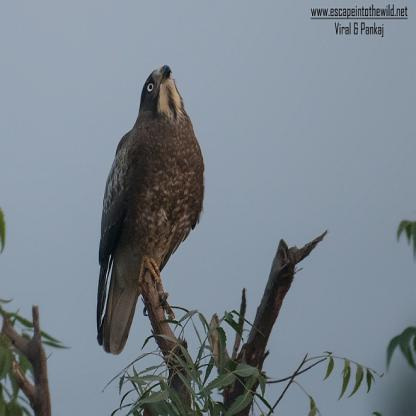Burung: (88, 60, 206, 356)
